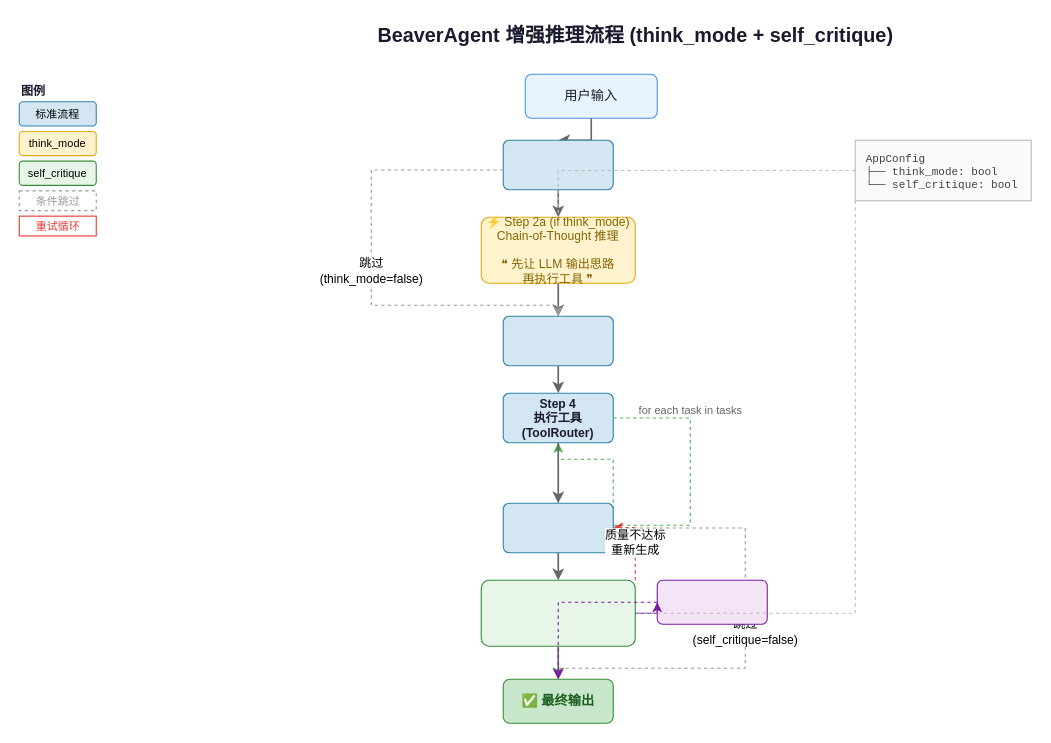
This 1051x743 diagram has some shape labels left out. Here are the shapes that lost their labels. From the top down, the box of each, then its label:
(502, 139, 613, 190): Step 1 解析 Intent
(502, 315, 613, 366): Step 2/3 规划任务 (TaskPlanner)
(502, 502, 613, 553): Step 5 生成响应 (_generate_response)
(480, 579, 635, 646): 🔍 Step 6 (if self_critique) Self-Critique 自我评审 ❝ 让 LLM 评审输出质量 有缺陷则重新生成 ❞
(656, 579, 767, 624): 存储记忆 (_extract_and_store_memory)
